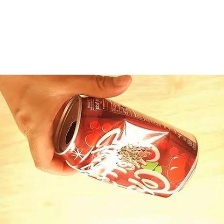can: (47, 95, 210, 199)
